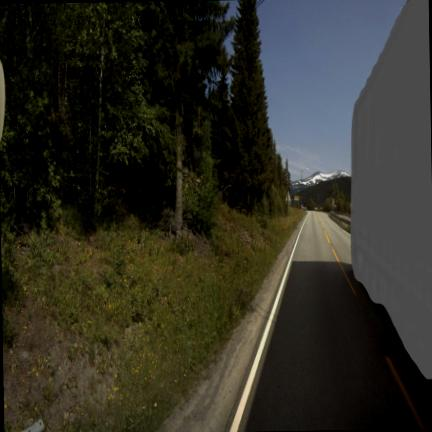Road: (239, 212, 431, 430)
